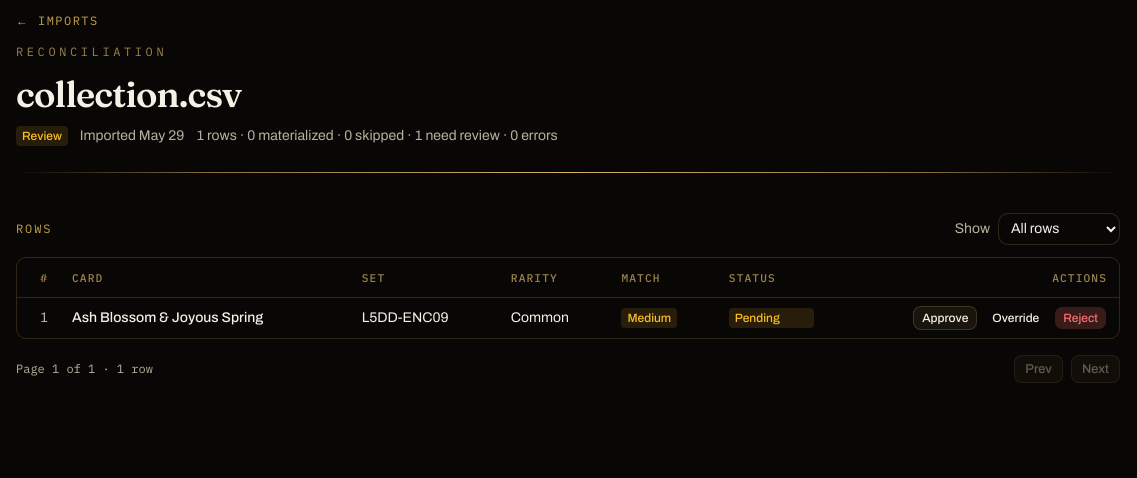
Test: ImportBatchDetail › approves a row and shows a success message
The image size is (1137, 478).
Expected: the text "Ash Blossom & Joyous Spring" is shown, [72,308,263,328]
Click the button "Approve".
click(945, 318)  # box [913,306,977,330]
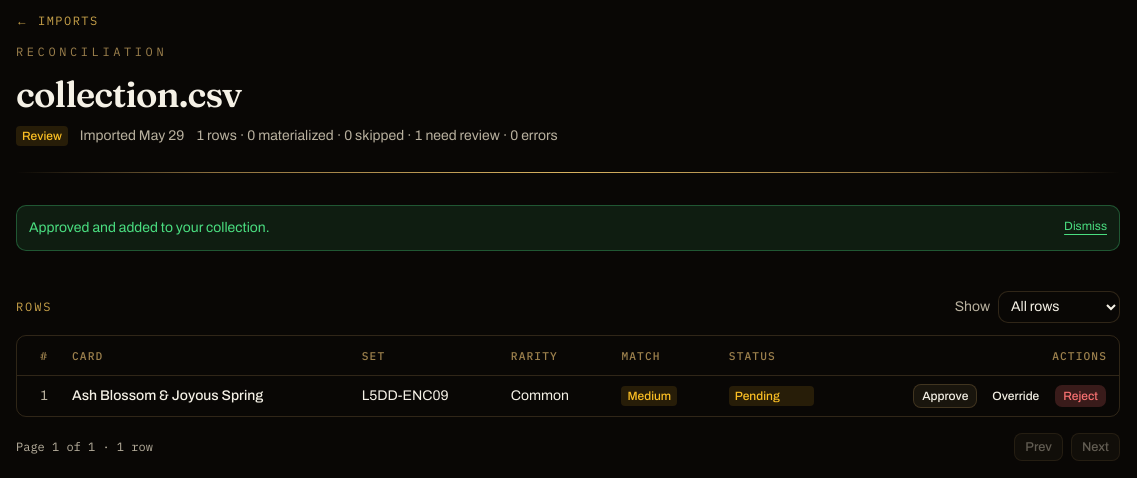
Result: the text "Approved and added to your collection." is shown at [29,218,270,238]
